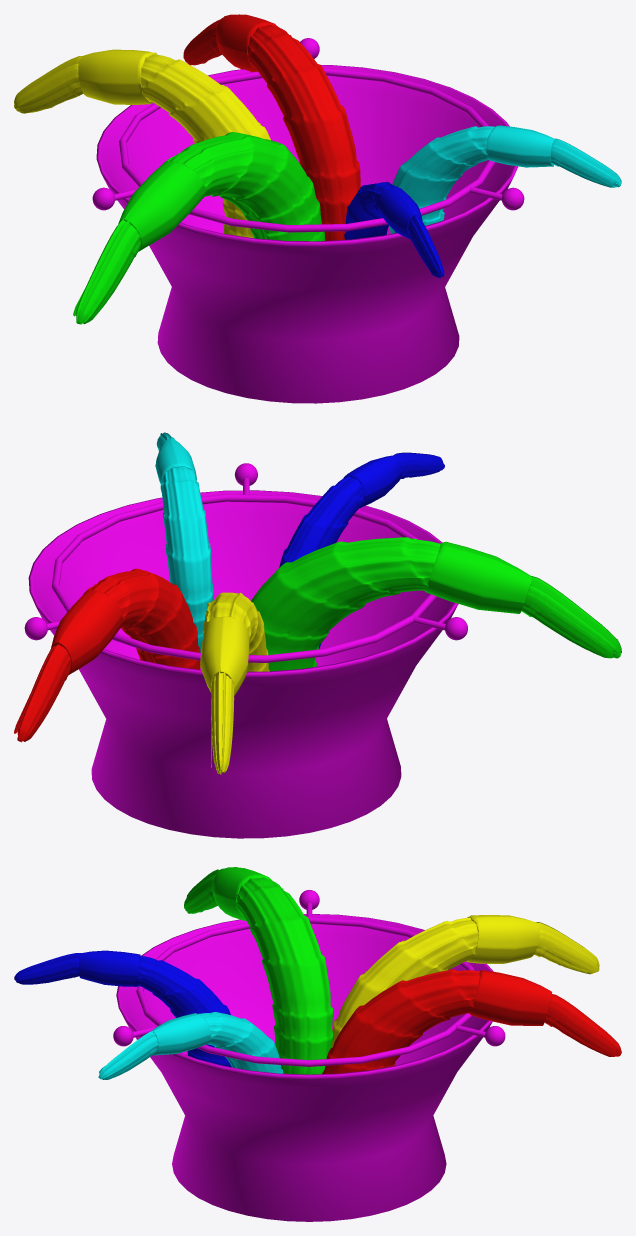
The model's file is ass_bow_v00_UV.fbx.
3 renders of one model, top to bottom at view 1: azimuth 30°, elevation 25°; view 2: azimuth 150°, elevation 25°; view 3: azimuth 270°, elevation 25°, orthographic. The views are drawn at different scales.
Visible parts, largest first — view 1: bowl1, prawn3, prawn1, prawn2, prawn4, prawn5; view 2: bowl1, prawn3, prawn1, prawn4, prawn2, prawn5; view 3: bowl1, prawn1, prawn3, prawn2, prawn5, prawn4.
Part boxes in pixels (left/top/right/bottom): bowl1: left=92, top=38, right=524, bottom=403; prawn3: left=73, top=132, right=325, bottom=324; prawn1: left=183, top=14, right=360, bottom=240; prawn2: left=14, top=49, right=270, bottom=238; prawn4: left=389, top=125, right=621, bottom=233; prawn5: left=344, top=182, right=444, bottom=277; bowl1: left=24, top=463, right=467, bottom=838; prawn3: left=251, top=537, right=621, bottom=671; prawn1: left=14, top=568, right=200, bottom=742; prawn4: left=155, top=432, right=213, bottom=652; prawn2: left=200, top=592, right=269, bottom=774; prawn5: left=279, top=452, right=444, bottom=648; bowl1: left=113, top=890, right=505, bottom=1221; prawn1: left=322, top=969, right=621, bottom=1073; prawn3: left=184, top=867, right=333, bottom=1074; prawn2: left=331, top=915, right=599, bottom=1047; prawn5: left=14, top=950, right=231, bottom=1067; prawn4: left=98, top=1012, right=283, bottom=1079.
Size of the model in its own units: 4.47 by 2.07 by 5.21.
